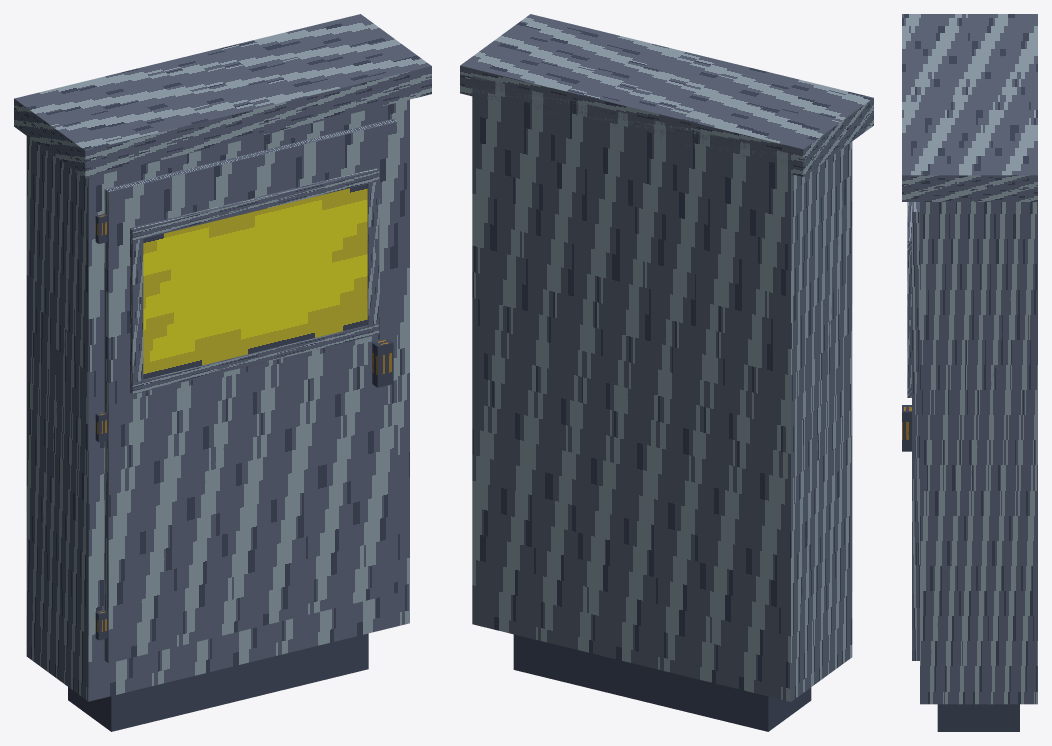
File: IND-10_Cuadro_electrico.gltf
3 views of the same model, side by side, from view 1: azimuth 30°, elevation 25°; view 2: azimuth 150°, elevation 25°; view 3: azimuth 270°, elevation 25° (orthographic). The views are drawn at different scales.
Visible parts, largest first — view 1: IND-10_Cuadro_electrico-convcol; view 2: IND-10_Cuadro_electrico-convcol; view 3: IND-10_Cuadro_electrico-convcol.
Boxes of the visible parts, left/top/right/bottom form: IND-10_Cuadro_electrico-convcol: left=14, top=14, right=431, bottom=731; IND-10_Cuadro_electrico-convcol: left=460, top=14, right=873, bottom=731; IND-10_Cuadro_electrico-convcol: left=902, top=14, right=1037, bottom=731.
Size of the model in its own units: 0.97 by 1.62 by 0.345.
1 material, 1 textured.
